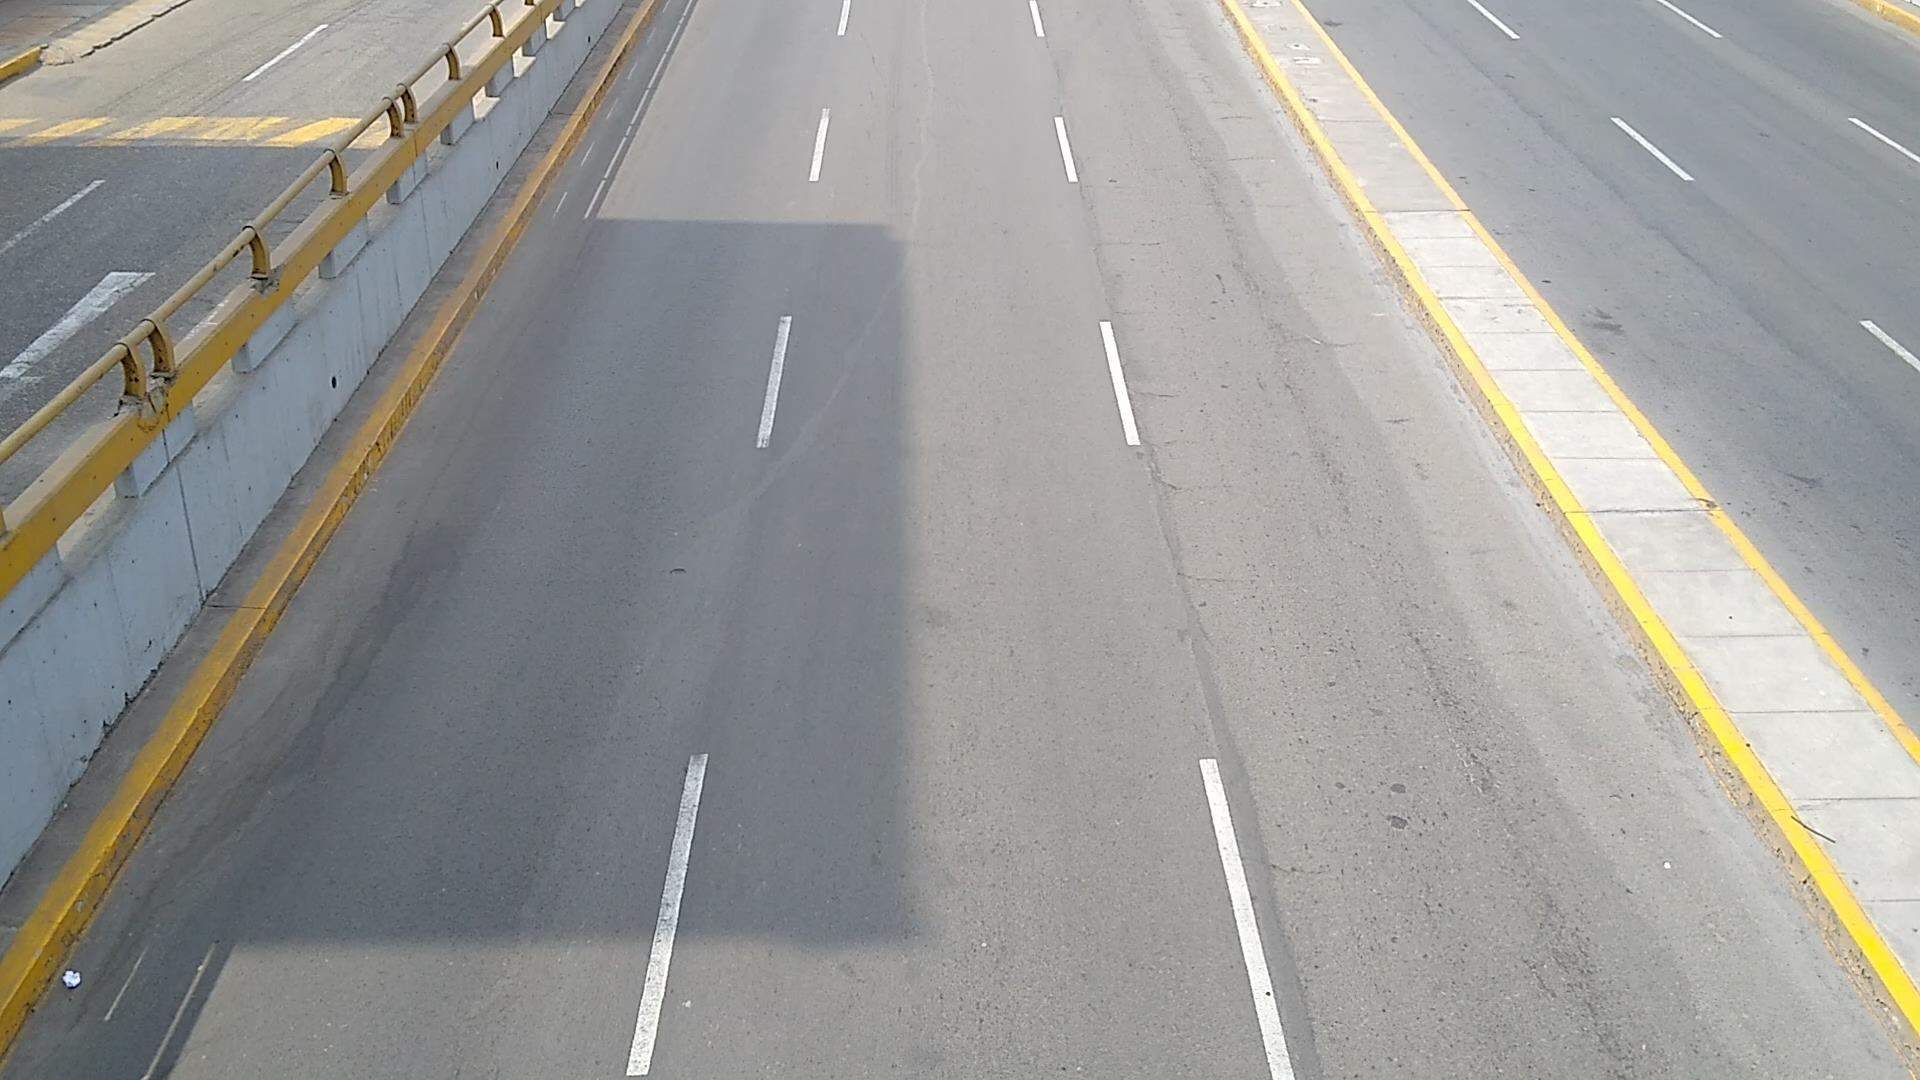car: (0, 0, 484, 433)
